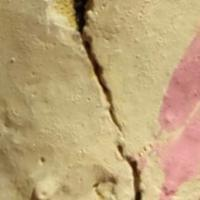crack: (67, 0, 155, 199)
